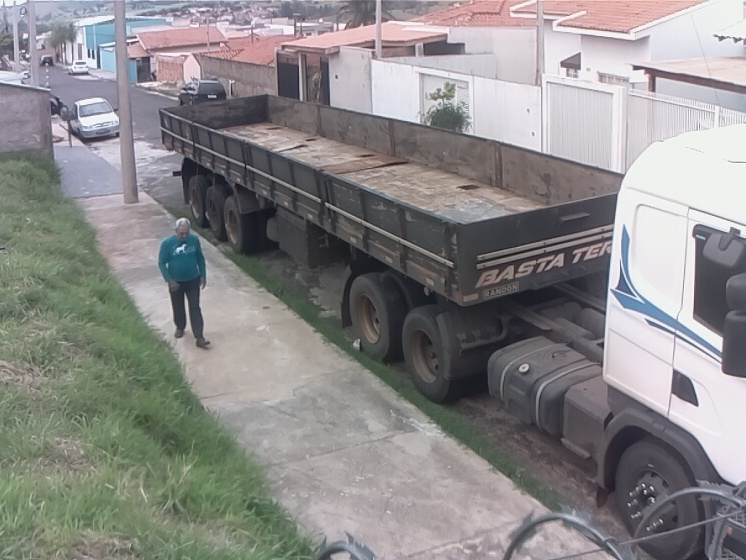person: (156, 214, 220, 350)
